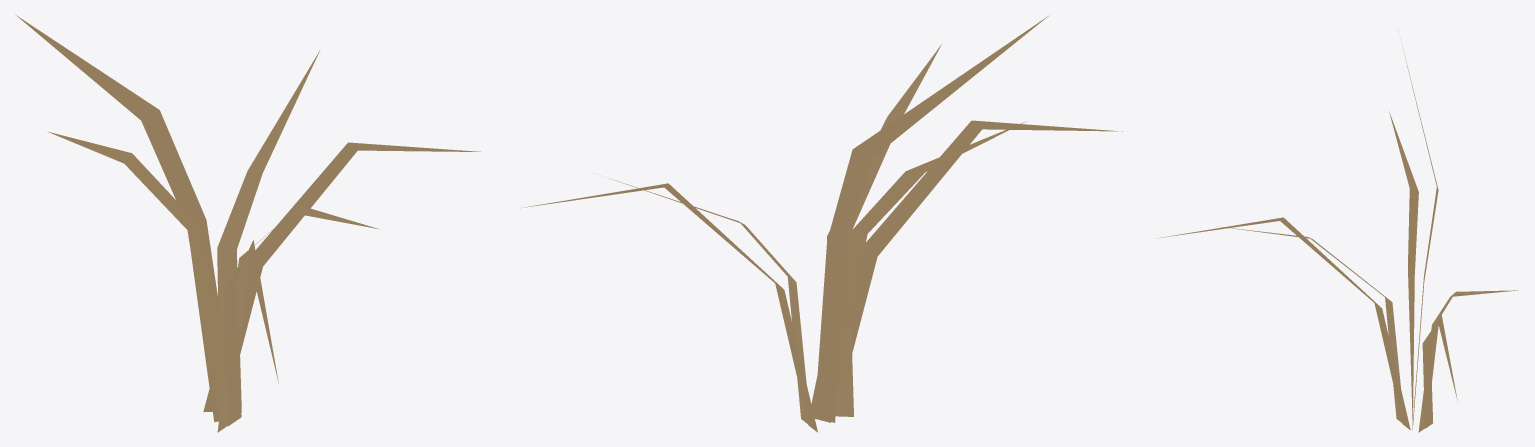
The model's file is Grass_f_OneS_02.fbx.
The picture shows the model from 3 angles, left to right: view 1: azimuth 30°, elevation 25°; view 2: azimuth 150°, elevation 25°; view 3: azimuth 270°, elevation 25°; orthographic projection. The views are drawn at different scales.
Visible parts, largest first — view 1: Grass_f_OneS_02; view 2: Grass_f_OneS_02; view 3: Grass_f_OneS_02.
Boxes of the visible parts, left/top/right/bottom form: Grass_f_OneS_02: left=16, top=15, right=480, bottom=432; Grass_f_OneS_02: left=520, top=16, right=1122, bottom=432; Grass_f_OneS_02: left=1158, top=46, right=1518, bottom=432.
Size of the model in its own units: 0.4759 by 0.4149 by 0.4136.
